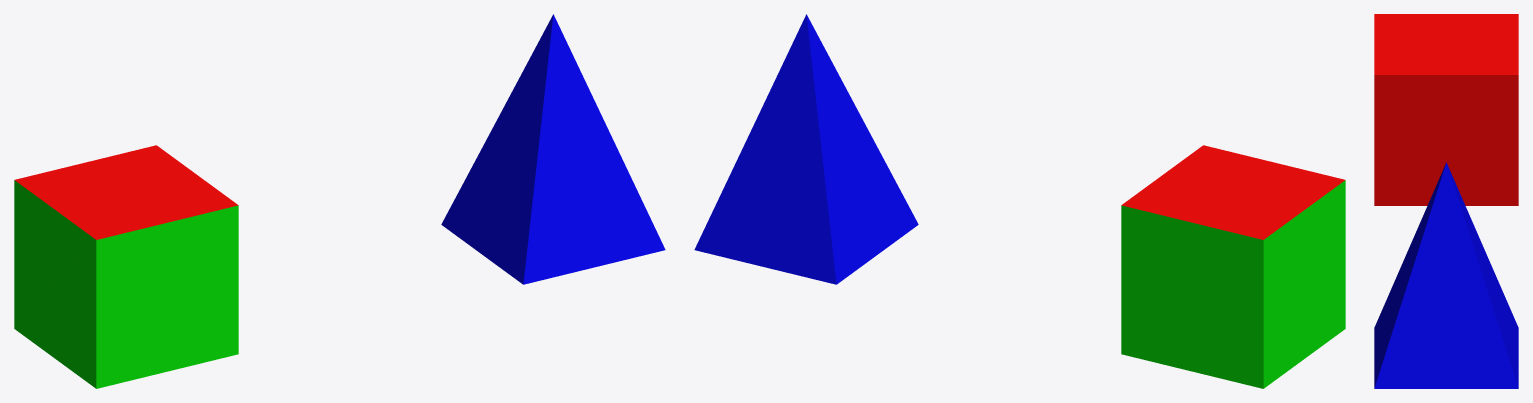
The picture shows the model from 3 angles, left to right: view 1: azimuth 30°, elevation 25°; view 2: azimuth 150°, elevation 25°; view 3: azimuth 270°, elevation 25°; orthographic projection. The views are drawn at different scales.
Visible parts, largest first — view 1: Cube, Pyramid; view 2: Cube, Pyramid; view 3: Cube, Pyramid.
Boxes of the visible parts, left/top/right/bottom form: Cube: left=14, top=145, right=238, bottom=388; Pyramid: left=441, top=14, right=665, bottom=284; Cube: left=1121, top=145, right=1345, bottom=388; Pyramid: left=694, top=14, right=918, bottom=284; Cube: left=1374, top=14, right=1518, bottom=205; Pyramid: left=1374, top=162, right=1518, bottom=388.
Bounding box in the file's own units: 8 × 2 × 3.
